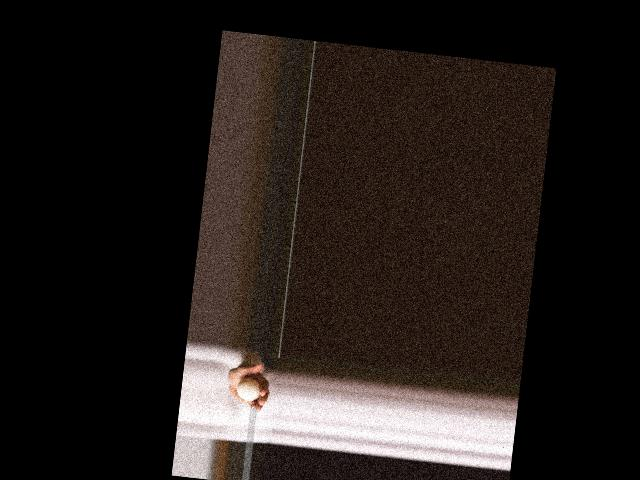egg: (236, 377, 262, 402)
